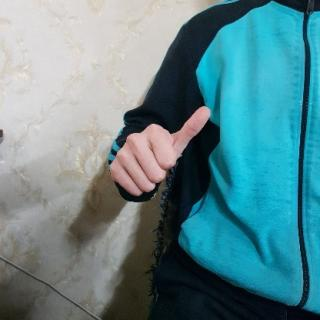ALIF: (107, 100, 214, 202)
